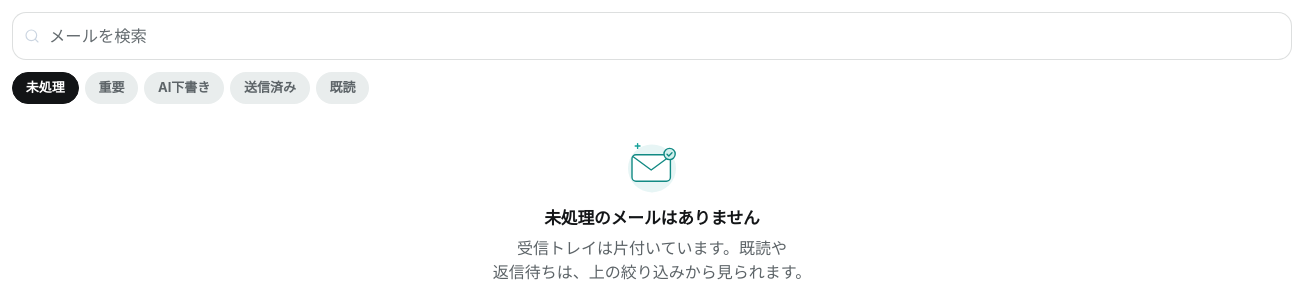
it: メール一覧 — 開き直した時に空白・誤表示を出さない › 絞り込みの先頭は「未処理」。片付いていて空なら「未処理のメールはありません」、検索で空なら「該当する結果」(第8弾 G-1)
Expected: the button "未処理" is shown, [12, 72, 79, 104]
Expected: the text "未処理のメールはありません" is shown, [544, 208, 760, 228]
Note: 既読の絞り込みにすれば、読んだメールが出る。
Step 1. Click the button "既読" → [343, 88], box [316, 72, 369, 104]
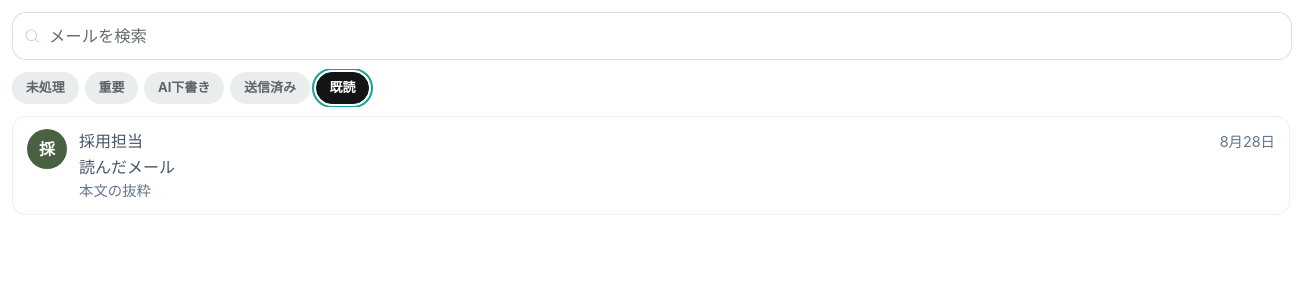
Expected: the text "読んだメール" is shown, [79, 157, 175, 177]
Note: 検索語で空になった時だけ「該当する結果」。
Step 2. Type "ない語" into the field with placeholder "メールを検索" → [652, 36], box [12, 12, 1292, 60]
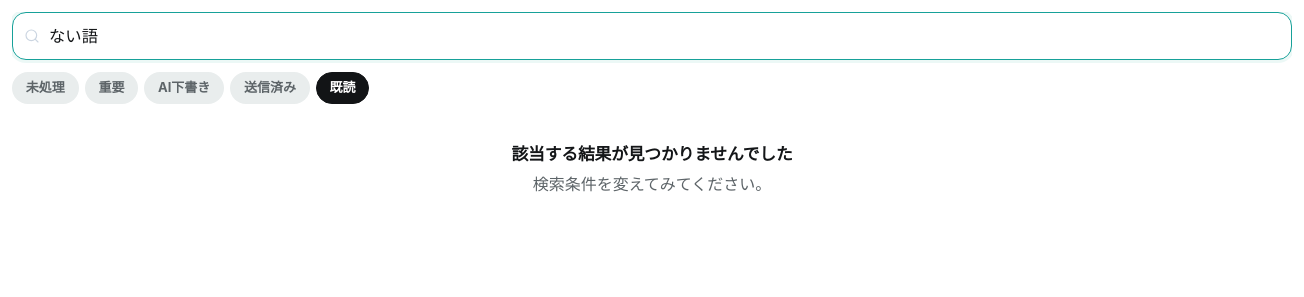
Expected: the text "該当する結果が見つかりませんでした" is shown, [512, 142, 793, 168]
